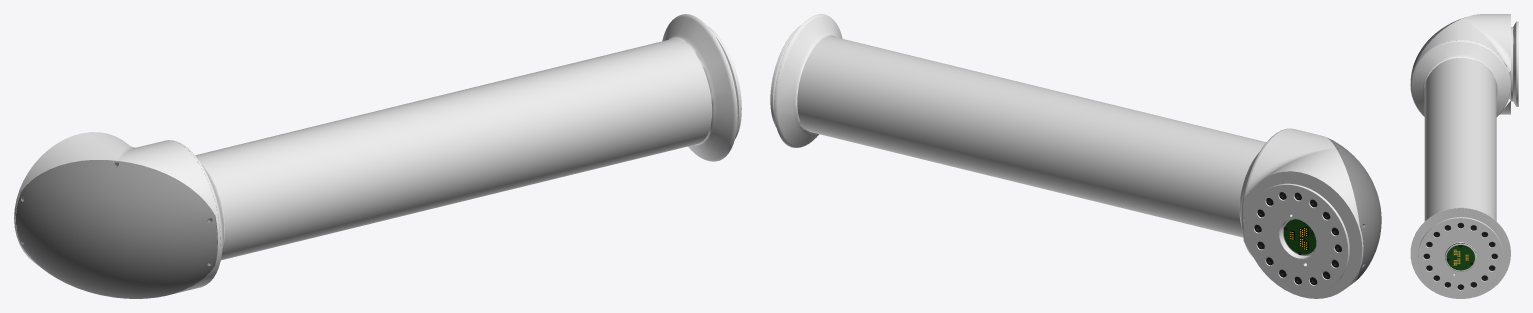
The picture shows the model from 3 angles, left to right: view 1: azimuth 30°, elevation 25°; view 2: azimuth 150°, elevation 25°; view 3: azimuth 270°, elevation 25°; orthographic projection. The views are drawn at different scales.
Visible parts, largest first — view 1: L148.001; view 2: L148.001; view 3: L148.001.
Boxes of the visible parts, left/top/right/bottom form: L148.001: left=14, top=14, right=741, bottom=298; L148.001: left=770, top=14, right=1381, bottom=298; L148.001: left=1410, top=14, right=1518, bottom=298.
Bounding box in the file's own units: 0.7486 × 0.148 × 0.1589.
